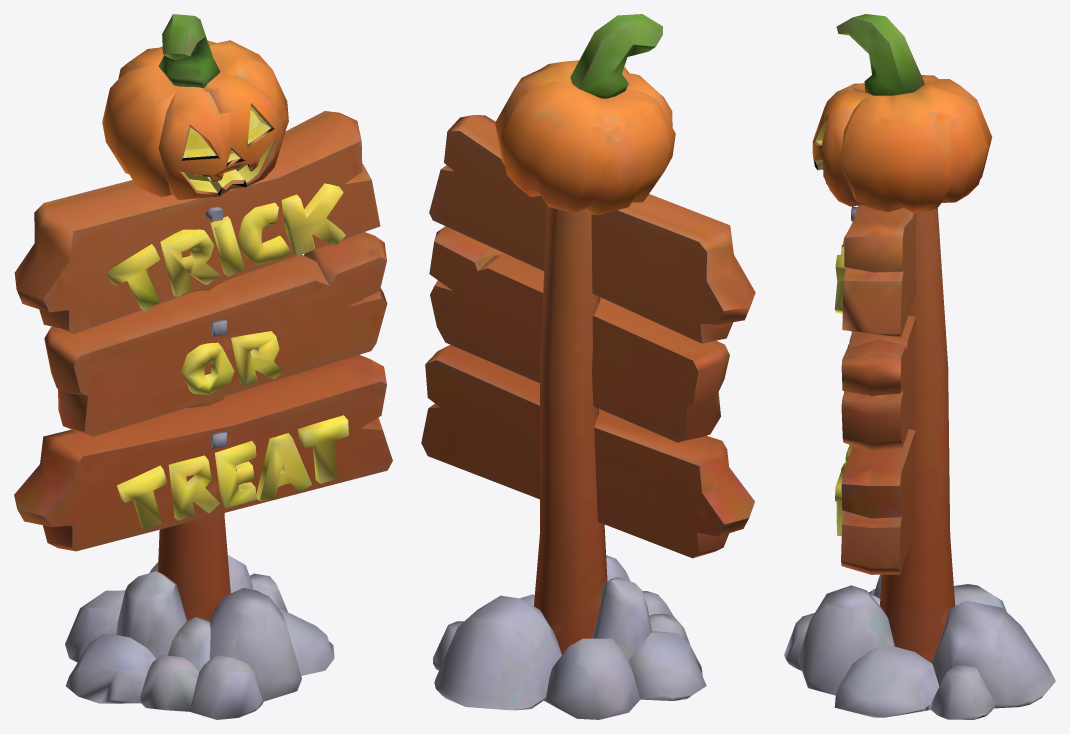
Rendered from kit-sign.lod.glb.
The picture shows the model from 3 angles, left to right: view 1: azimuth 30°, elevation 25°; view 2: azimuth 150°, elevation 25°; view 3: azimuth 270°, elevation 25°; orthographic projection. The views are drawn at different scales.
Parts seen in each view (by area): view 1: WBA_Sign_Halloween_01_WBA_MAT_Halloween_Atlas_0.001; view 2: WBA_Sign_Halloween_01_WBA_MAT_Halloween_Atlas_0.001; view 3: WBA_Sign_Halloween_01_WBA_MAT_Halloween_Atlas_0.001.
Part boxes in pixels (box(x1,y1,x2,y2)): WBA_Sign_Halloween_01_WBA_MAT_Halloween_Atlas_0.001: box(14, 14, 392, 719); WBA_Sign_Halloween_01_WBA_MAT_Halloween_Atlas_0.001: box(421, 14, 755, 719); WBA_Sign_Halloween_01_WBA_MAT_Halloween_Atlas_0.001: box(784, 14, 1055, 719).
Bounding box in the file's own units: 0.5463 × 0.9995 × 0.389.
Materials: 1 (1 with a texture image).
